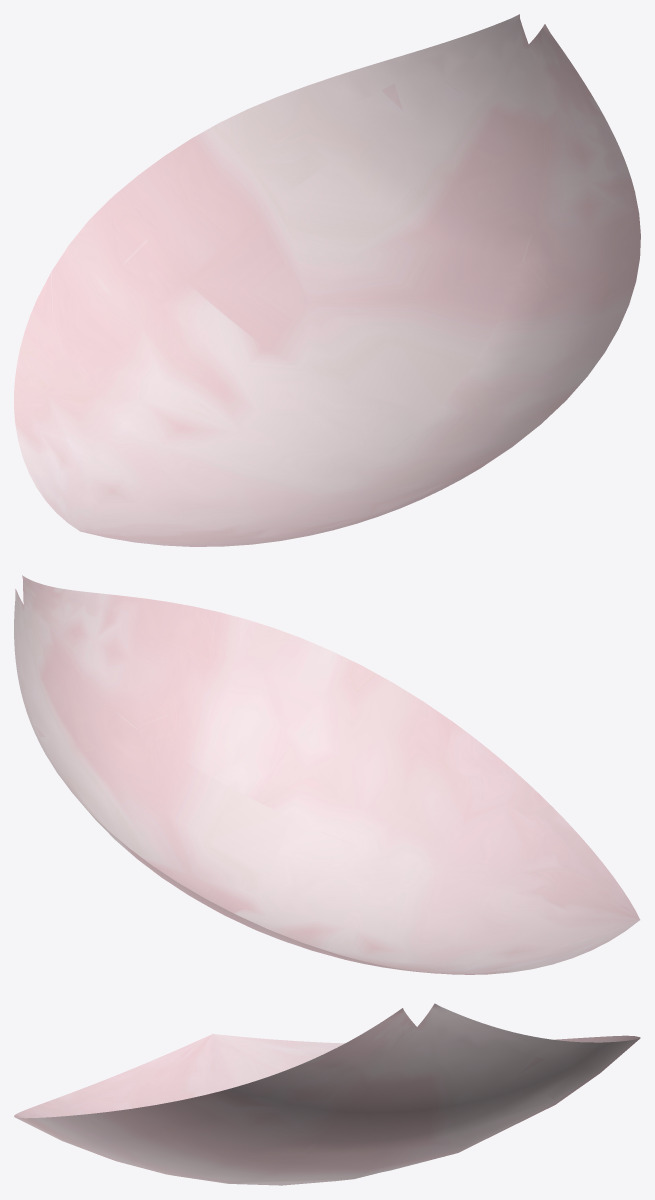
Rendered from cherryblossompiece.fbx.
3 renders of one model, top to bottom at view 1: azimuth 30°, elevation 25°; view 2: azimuth 150°, elevation 25°; view 3: azimuth 270°, elevation 25°, orthographic. The views are drawn at different scales.
Visible parts, largest first — view 1: nurbsToPoly6; view 2: nurbsToPoly6; view 3: nurbsToPoly6.
Boxes of the visible parts, box(x1,y1,x2,y2) form: nurbsToPoly6: box(14, 14, 640, 546); nurbsToPoly6: box(14, 575, 640, 974); nurbsToPoly6: box(14, 1003, 640, 1185).
Size of the model in its own units: 8.06 by 4.4 by 7.81.
